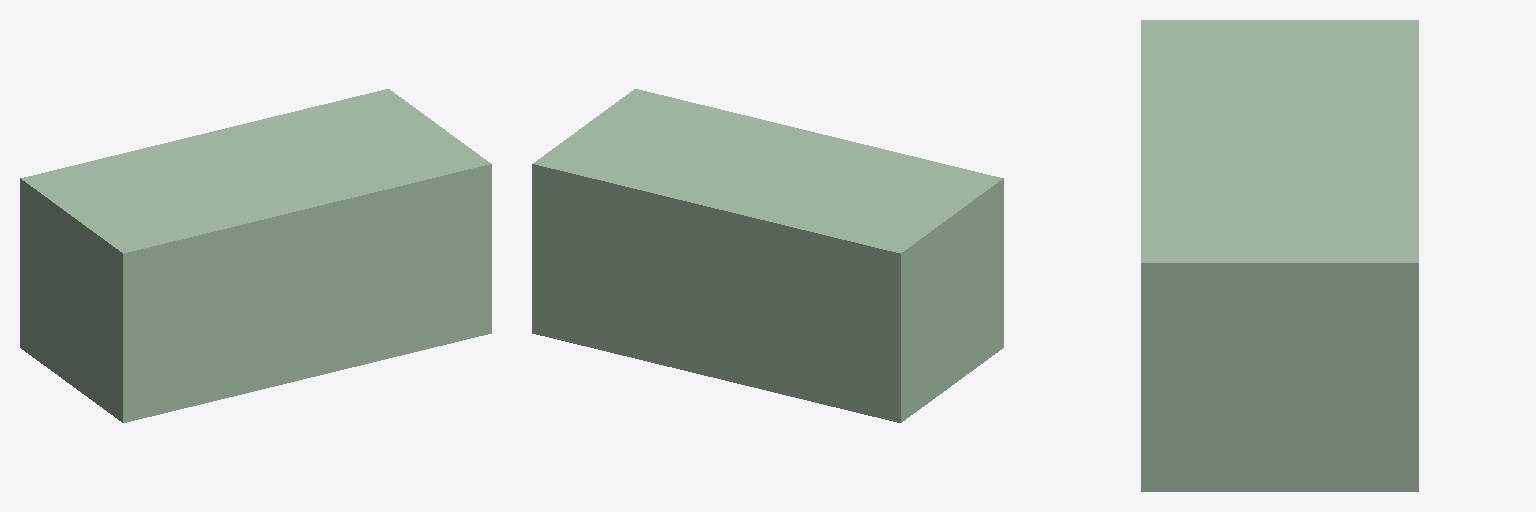
The robot description file, URDF, robot "box.urdf":
<?xml version="1.0" ?>
<robot name="box.urdf">
  <link name="baseLink">
    <contact>
      <lateral_friction value="1.0"/>
      <rolling_friction value="0.0001"/>
      <inertia_scaling value="3.0"/>
    </contact>
    <inertial>
      <origin rpy="0 0 0" xyz="0 0 0"/>
       <mass value="0.1"/>
       <inertia ixx="1" ixy="0" ixz="0" iyy="1" iyz="0" izz="1"/>
    </inertial>
    <visual>
      <origin rpy="0 0 0" xyz="0 0 0"/>
      <geometry>
        <!-- <box size="0.461 0.223 0.203"/> -->
        <mesh filename="box/box.obj" scale="0.461 0.223 0.203"/>
      </geometry>
      <material name="white">
        <color rgba="0.7 0.8 0.7 1"/>
      </material>
    </visual>
    <collision>
      <origin rpy="0 0 0" xyz="0 0 0"/>
      <geometry>
        <mesh filename="box/box.obj" scale="0.461 0.223 0.203"/>
	 	    <!-- <box size="0.461 0.223 0.203"/> -->
      </geometry>
    </collision>
  </link>
</robot>

--- What the picture shows (computed from the rendered views, not written in the file) ---
Views: 3 orthographic renders of the robot side by side, from view 1: azimuth 30°, elevation 25°; view 2: azimuth 150°, elevation 25°; view 3: azimuth 270°, elevation 25°.
Robot: box.urdf — 1 links, 0 joints (none); root link baseLink; default pose: all joints at 0.
Links seen in each view (by area): view 1: baseLink; view 2: baseLink; view 3: baseLink.
Boxes of the visible links, x1,y1,x2,y2 form: baseLink: [20, 89, 491, 422]; baseLink: [532, 89, 1003, 422]; baseLink: [1141, 20, 1418, 491].
Size in the robot's own frame: 0.461 by 0.223 by 0.203 metres.
Meshes: 1 distinct files referenced, 1 mesh visuals loaded (1 OBJ).
